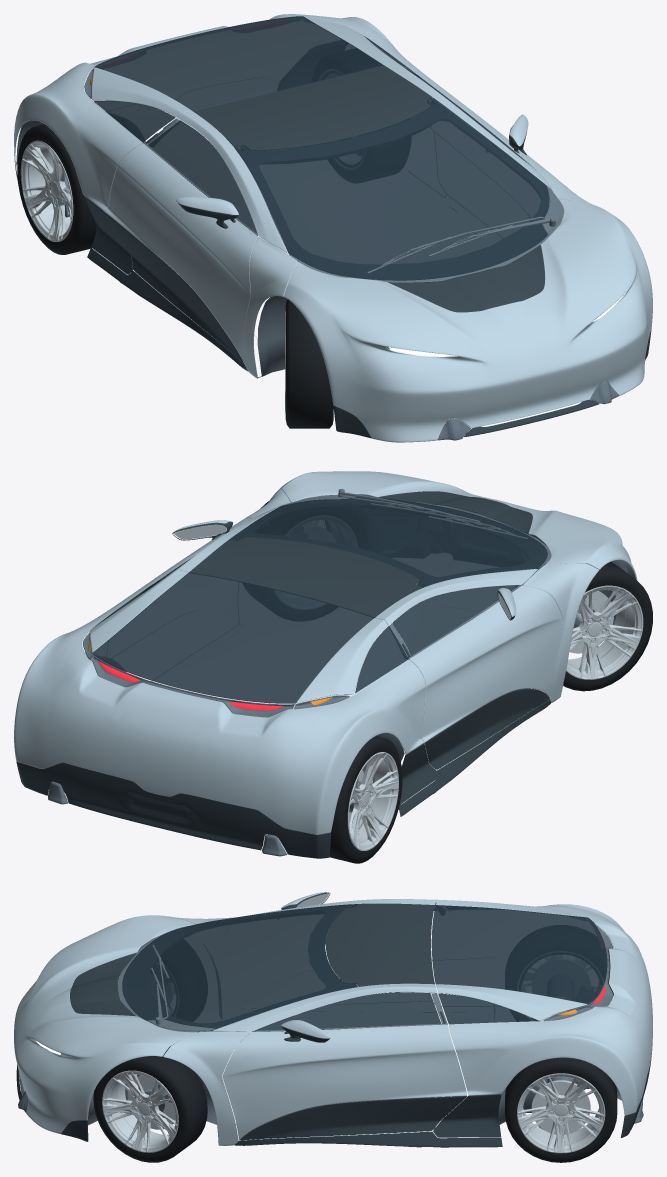
File: neutral-ev.glb
3 renders of one model, top to bottom at view 1: azimuth 30°, elevation 25°; view 2: azimuth 150°, elevation 25°; view 3: azimuth 270°, elevation 25°, orthographic. The views are drawn at different scales.
Visible parts, largest first — view 1: BodyHood, BodyWindshield, BodyRearwindow, BodyDoorRColor1, BodyRearPanelsColor1, BodyRoofPanel, BodyPillars, BodyPanelsColor2, BodyHoodTopgrill, WheelFrontR, BodyDoorRWindow, WheelRearRRim (+9 smaller); view 2: BodyRearPanelsColor1, BodyRearwindow, BodyWindshield, BodyPanelsColor2, BodyDoorRColor1, BodyRoofPanel, BodyHood, BodyPillars, WheelFrontRRim, BodyDoorRColor2, WheelRearRRim, BodyDoorRWindow (+7 smaller); view 3: BodyWindshield, BodyRearPanelsColor1, BodyDoorLColor1, BodyHood, BodyRearwindow, BodyRoofPanel, BodyPillars, BodyDoorLColor2, BodyPanelsColor2, WheelFrontL, WheelRearLRim, WheelFrontLRim (+11 smaller).
Boxes of the visible parts, x1,y1,x2,y2 form: BodyHood: [283, 198, 652, 442]; BodyWindshield: [234, 98, 549, 280]; BodyRearwindow: [94, 16, 382, 111]; BodyDoorRColor1: [104, 143, 257, 362]; BodyRearPanelsColor1: [14, 14, 428, 210]; BodyRoofPanel: [193, 65, 432, 150]; BodyPillars: [176, 61, 598, 378]; BodyPanelsColor2: [15, 162, 651, 438]; BodyHoodTopgrill: [388, 245, 544, 312]; WheelFrontR: [285, 299, 333, 428]; BodyDoorRWindow: [148, 120, 257, 234]; WheelRearRRim: [20, 140, 73, 241]; BodyRearPanelsColor1: [14, 569, 425, 834]; BodyRearwindow: [92, 572, 373, 703]; BodyWindshield: [229, 497, 547, 587]; BodyPanelsColor2: [16, 681, 550, 858]; BodyDoorRColor1: [409, 585, 562, 742]; BodyRoofPanel: [189, 537, 422, 617]; BodyHood: [279, 471, 637, 580]; BodyPillars: [175, 489, 599, 702]; WheelFrontRRim: [566, 585, 643, 679]; BodyDoorRColor2: [424, 688, 549, 769]; WheelRearRRim: [347, 752, 398, 850]; BodyDoorRWindow: [392, 585, 519, 655]; BodyWindshield: [122, 904, 358, 1028]; BodyRearPanelsColor1: [436, 899, 652, 1115]; BodyDoorLColor1: [222, 1024, 467, 1139]; BodyHood: [14, 915, 196, 1133]; BodyRearwindow: [431, 905, 607, 1004]; BodyRoofPanel: [326, 903, 434, 986]; BodyPillars: [163, 899, 437, 1145]; BodyDoorLColor2: [240, 1096, 467, 1140]; BodyPanelsColor2: [16, 1000, 652, 1147]; WheelFrontL: [93, 1050, 207, 1162]; WheelRearLRim: [517, 1073, 605, 1153]; WheelFrontLRim: [102, 1070, 178, 1152].
Bounding box in the file's own units: 2.54 × 1.15 × 4.36.
